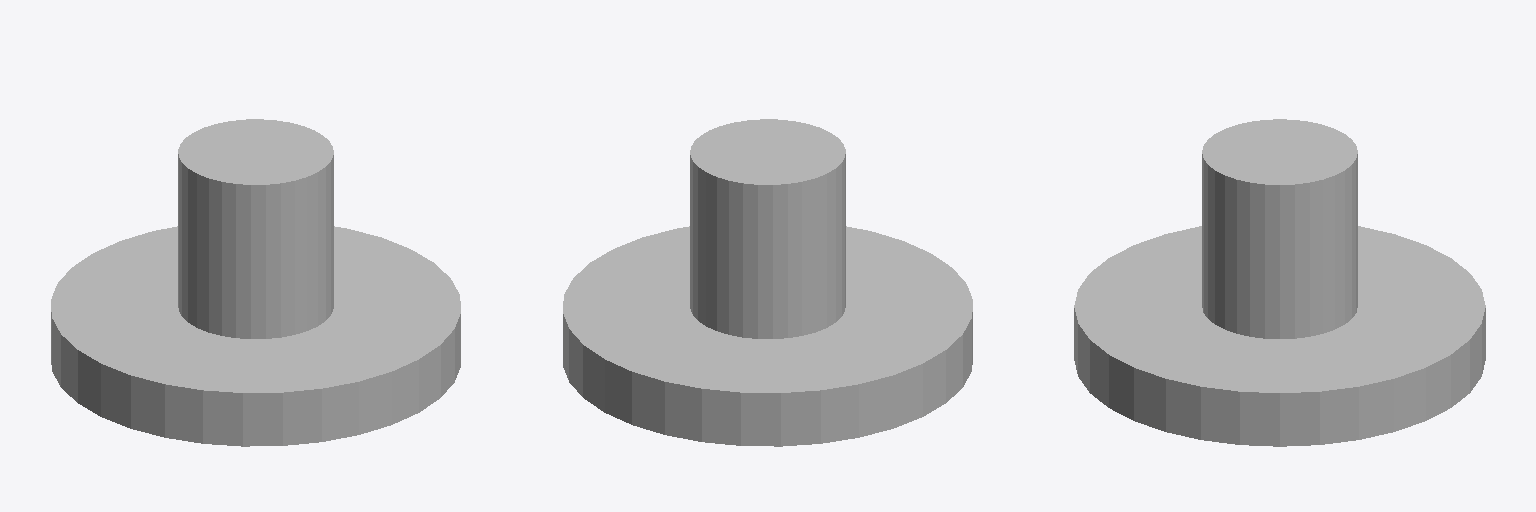
The model's file is Paddle.obj.
The picture shows the model from 3 angles: view 1: azimuth 30°, elevation 25°; view 2: azimuth 150°, elevation 25°; view 3: azimuth 270°, elevation 25°; orthographic projection.
Visible parts, largest first — view 1: Cylinder; view 2: Cylinder; view 3: Cylinder.
Part boxes in pixels (bbox=[...]): Cylinder: bbox=[51, 119, 460, 446]; Cylinder: bbox=[563, 119, 972, 446]; Cylinder: bbox=[1074, 119, 1485, 446].
Size of the model in its own units: 2.38 by 1.33 by 2.38.